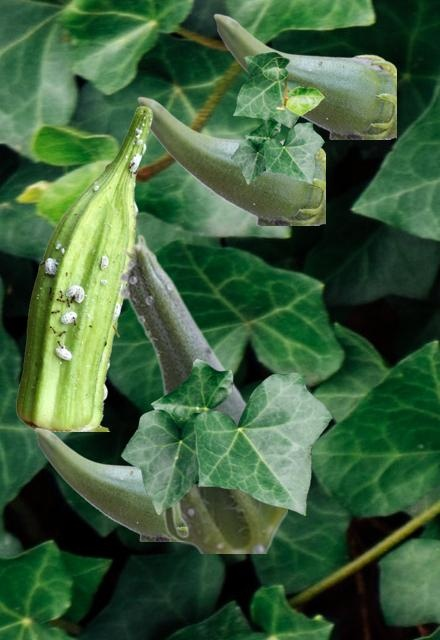okra: (117, 234, 286, 552), (16, 106, 152, 430), (137, 96, 324, 224), (213, 13, 395, 138), (34, 427, 184, 540)
